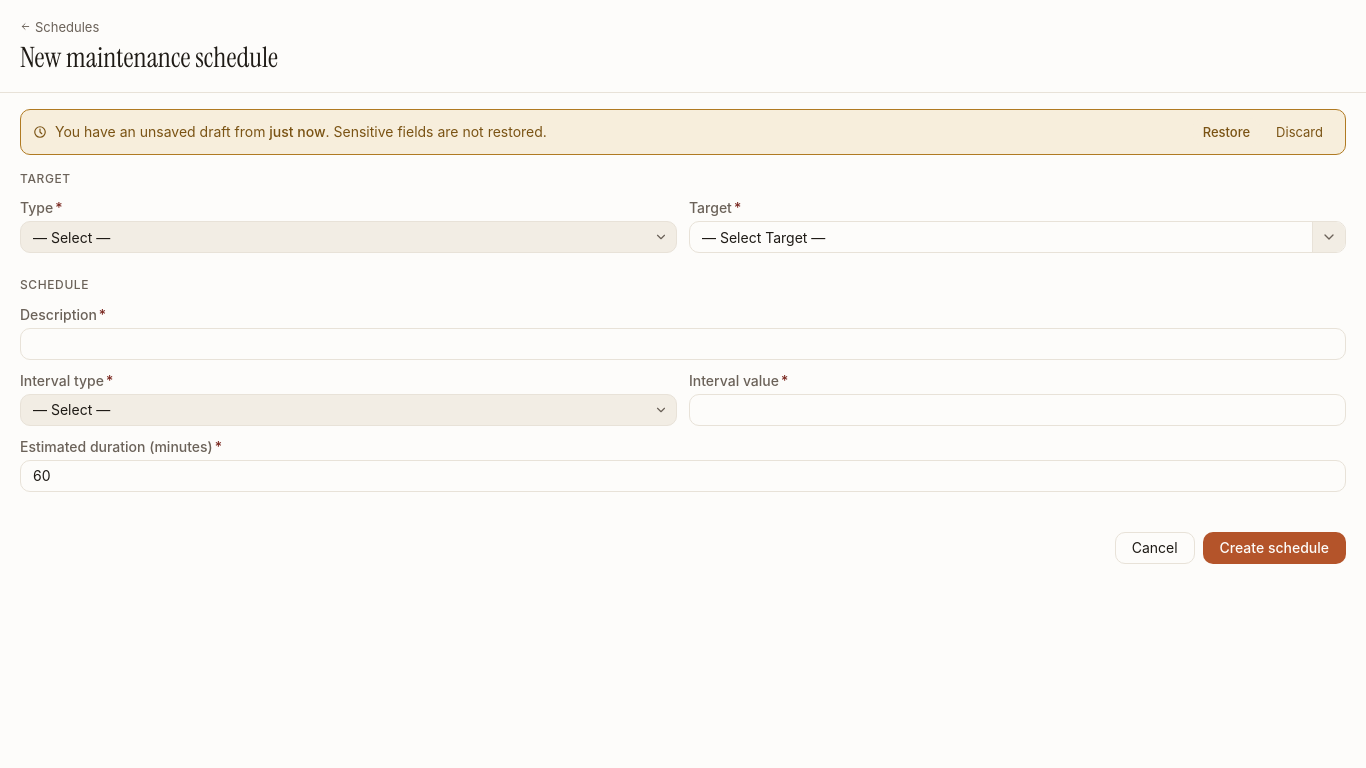
Test: clears the selected target when its maintainable type changes
The width and height of the screenshot is (1366, 768).
Select "Machine" in the dropdown labelled "Type" at (348, 237), box x1=21 y1=222 x2=676 y2=252
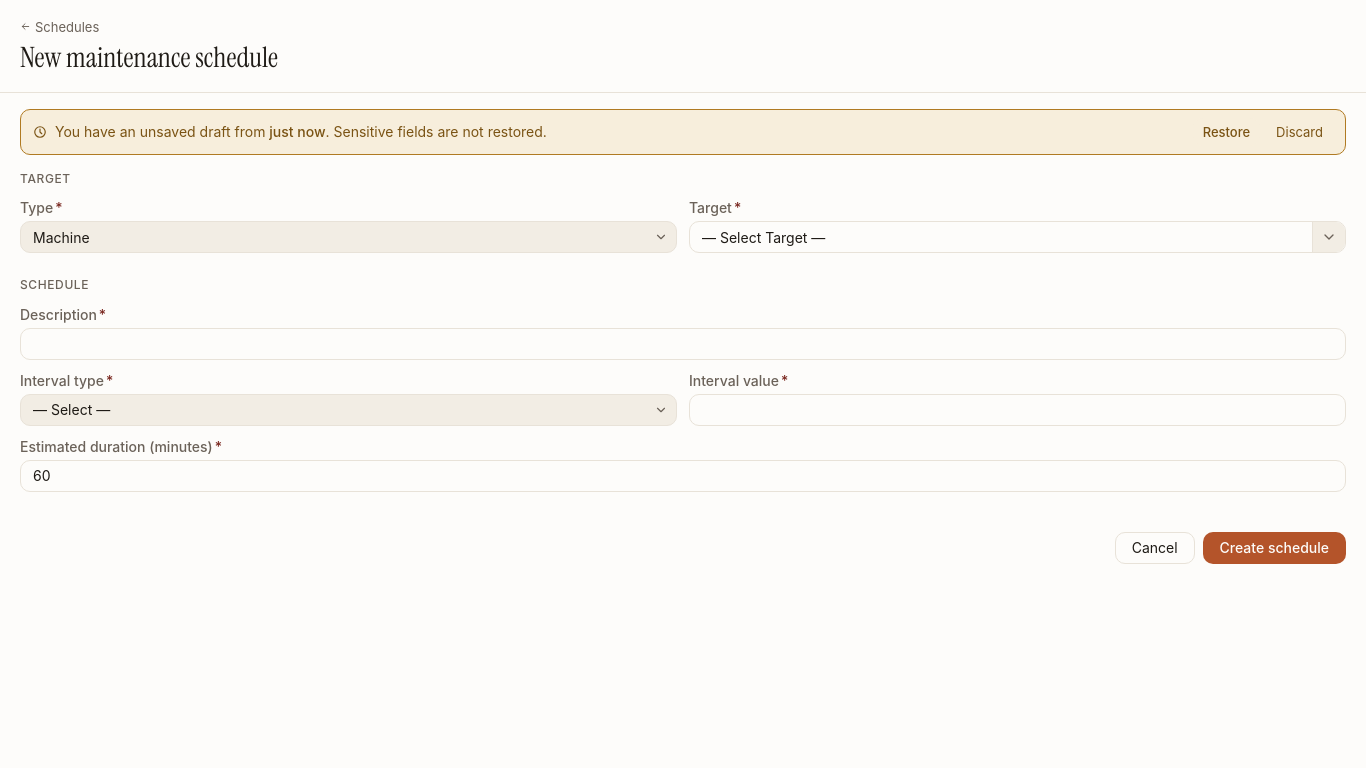
Focus the dropdown labelled "Target" at (1001, 237), box x1=690 y1=222 x2=1312 y2=252
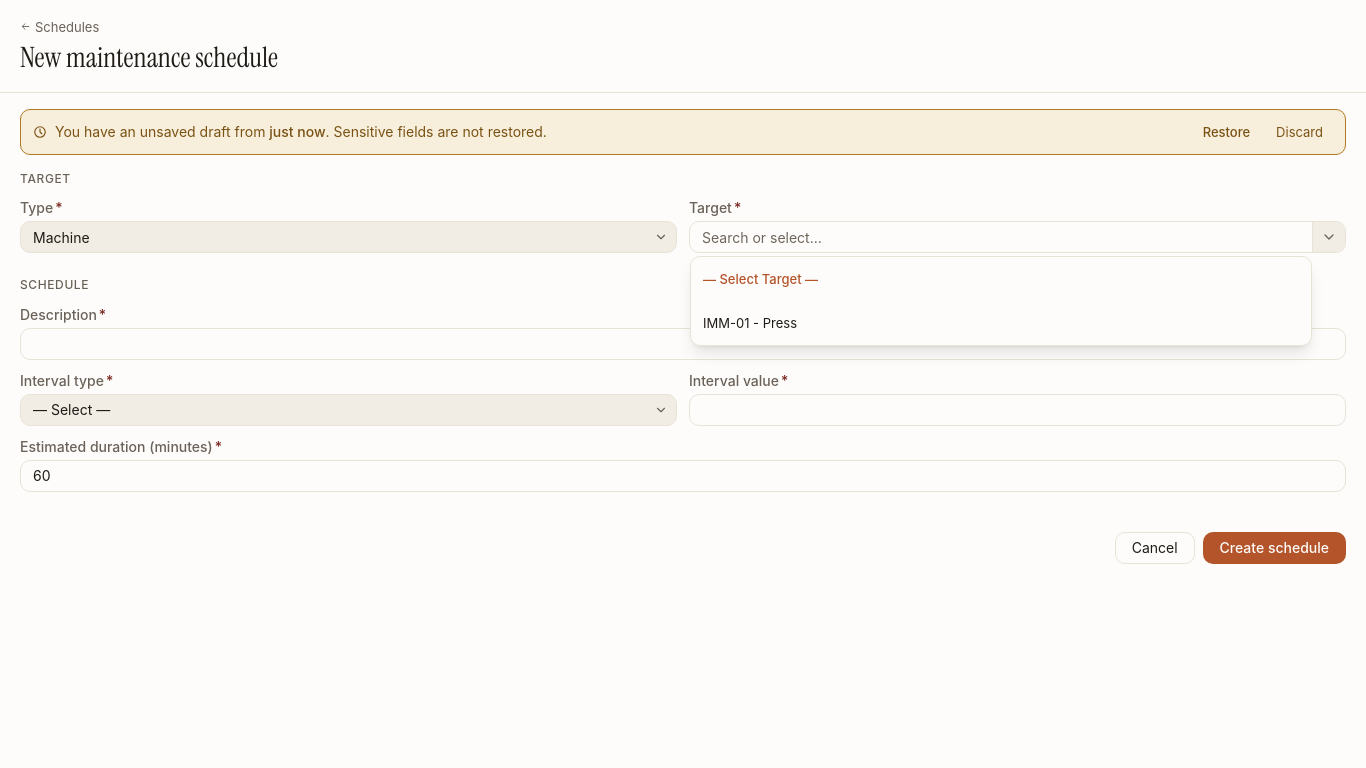
Click the option "IMM-01 - Press" at (750, 323), box x1=691 y1=301 x2=1311 y2=345
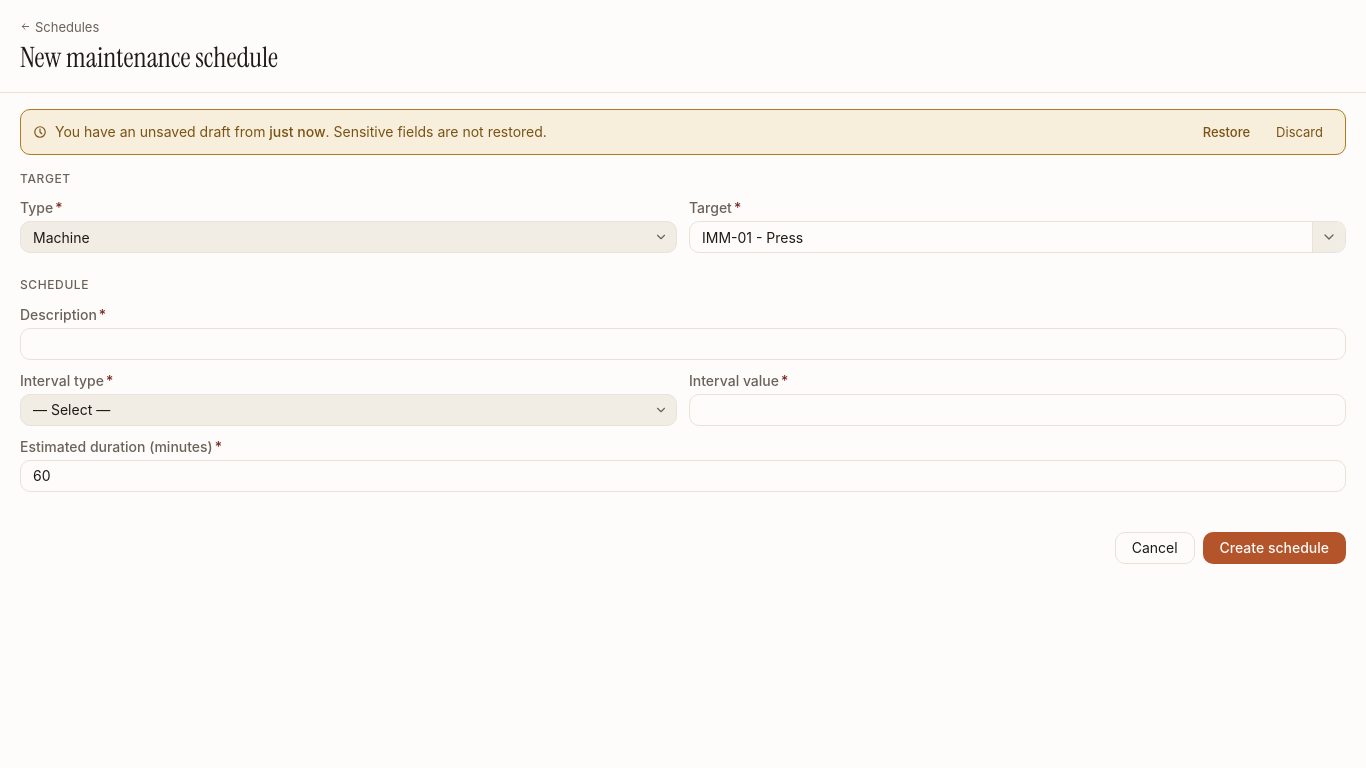
Check: the dropdown labelled "Target" holds "IMM-01 - Press", box x1=690 y1=222 x2=1312 y2=252
Select "Mold" in the dropdown labelled "Type" at (348, 237), box x1=21 y1=222 x2=676 y2=252
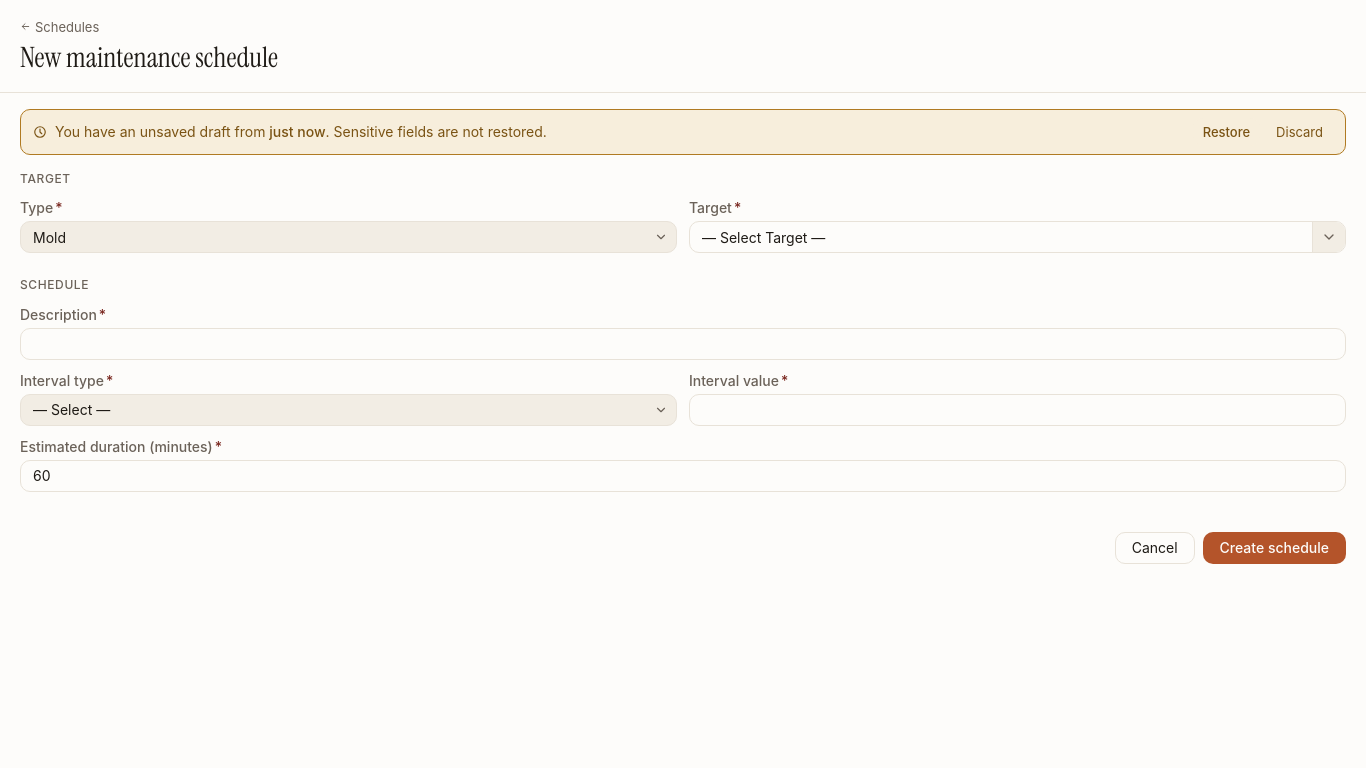
Check: the dropdown labelled "Target" holds "— Select Target —", box x1=690 y1=222 x2=1312 y2=252
